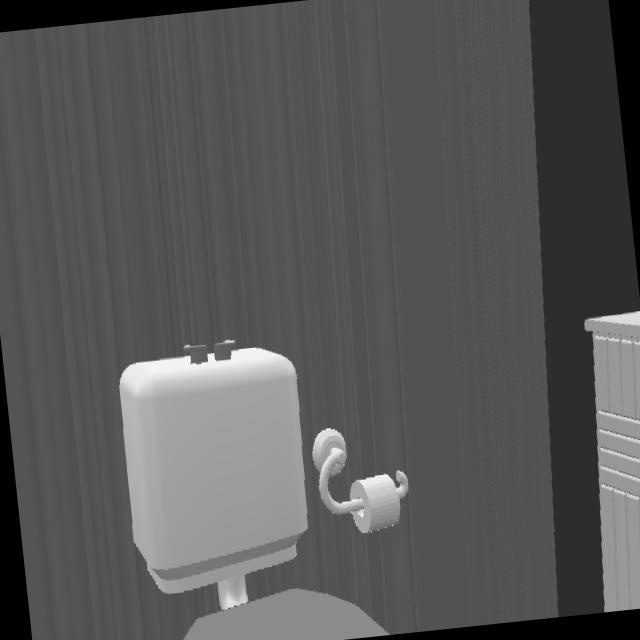toilet: (120, 341, 385, 640)
